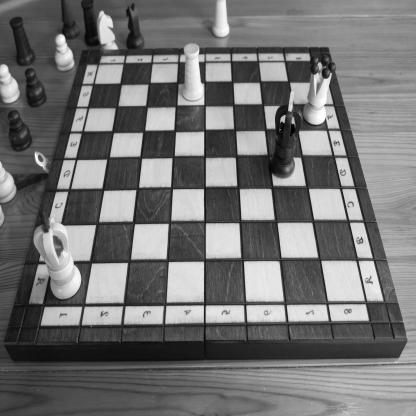black-bishop: (61, 0, 80, 41)
black-king: (269, 90, 303, 179)
black-knight: (126, 3, 145, 50)
black-pawn: (7, 109, 33, 153), (24, 68, 48, 109)
black-rook: (8, 15, 36, 67), (80, 0, 98, 47)
white-king: (32, 208, 82, 300)
white-knight: (97, 11, 119, 51)
white-pawn: (128, 38, 149, 81), (54, 33, 75, 73), (1, 64, 21, 106), (0, 160, 18, 206)
white-queen: (302, 54, 337, 126)
white-rook: (182, 42, 204, 102), (211, 0, 230, 39)
